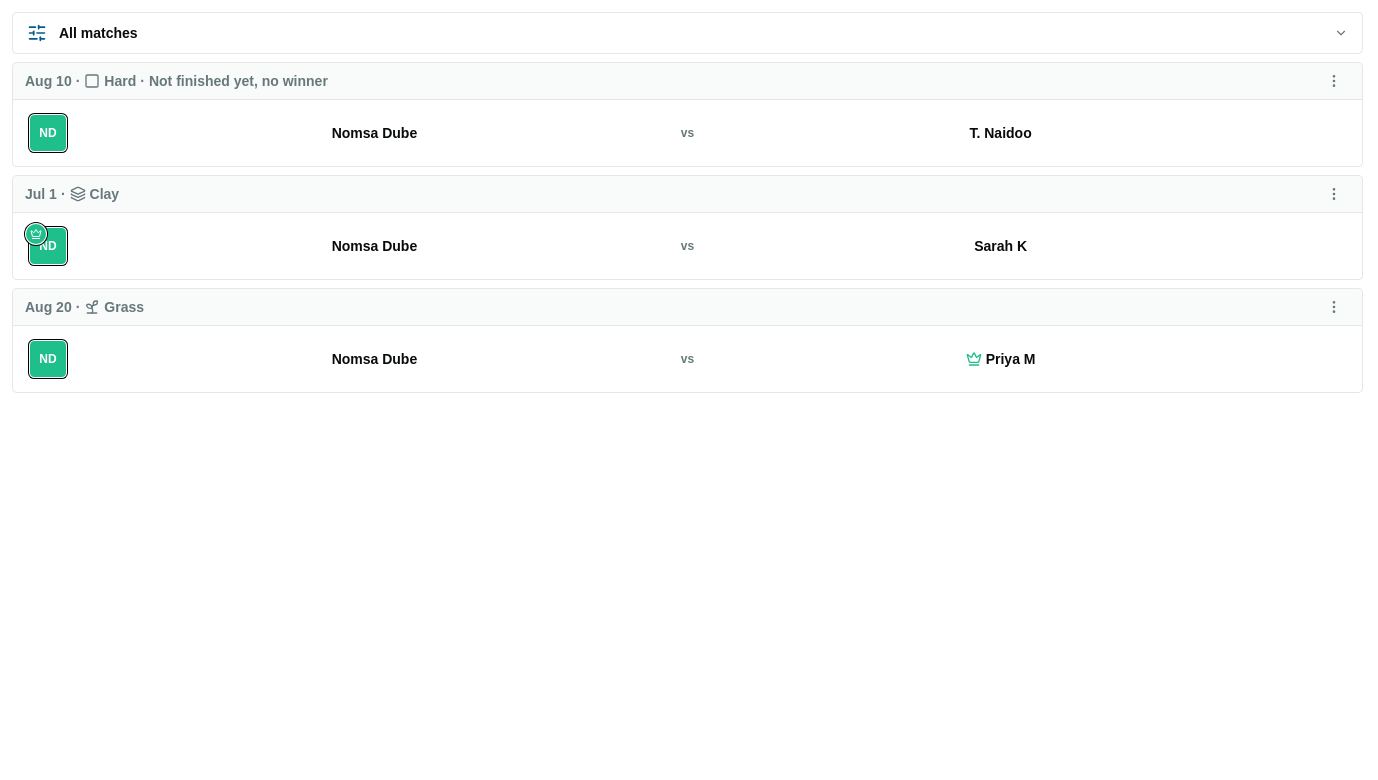
Test: filters by opponent name
Check: the text "T. Naidoo" is shown, box [970,123,1032,143]
Step 1. Click the button "All matches" → (98, 33), box [12,12,1363,54]
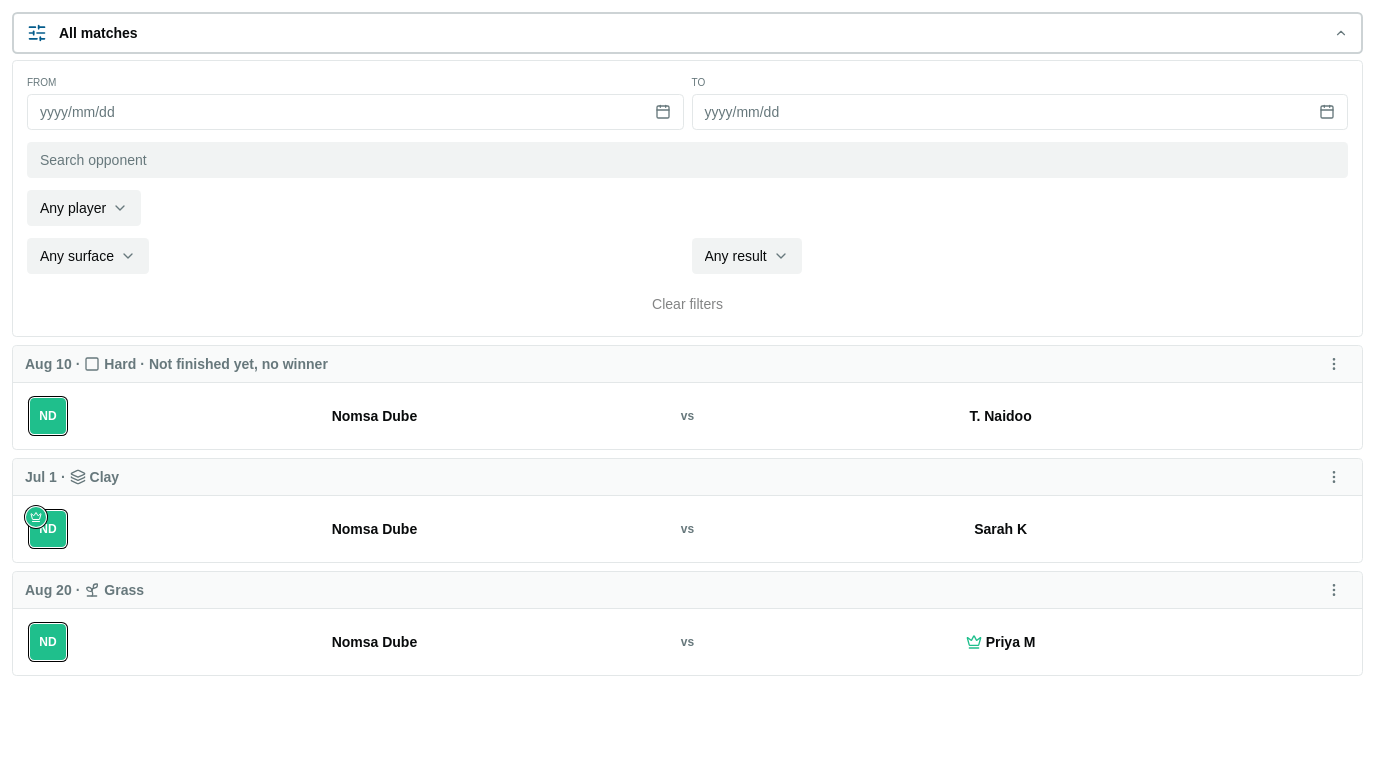
Step 2. Type "Sarah" into the field with placeholder "Search opponent" → (688, 160), box [27,142,1348,178]
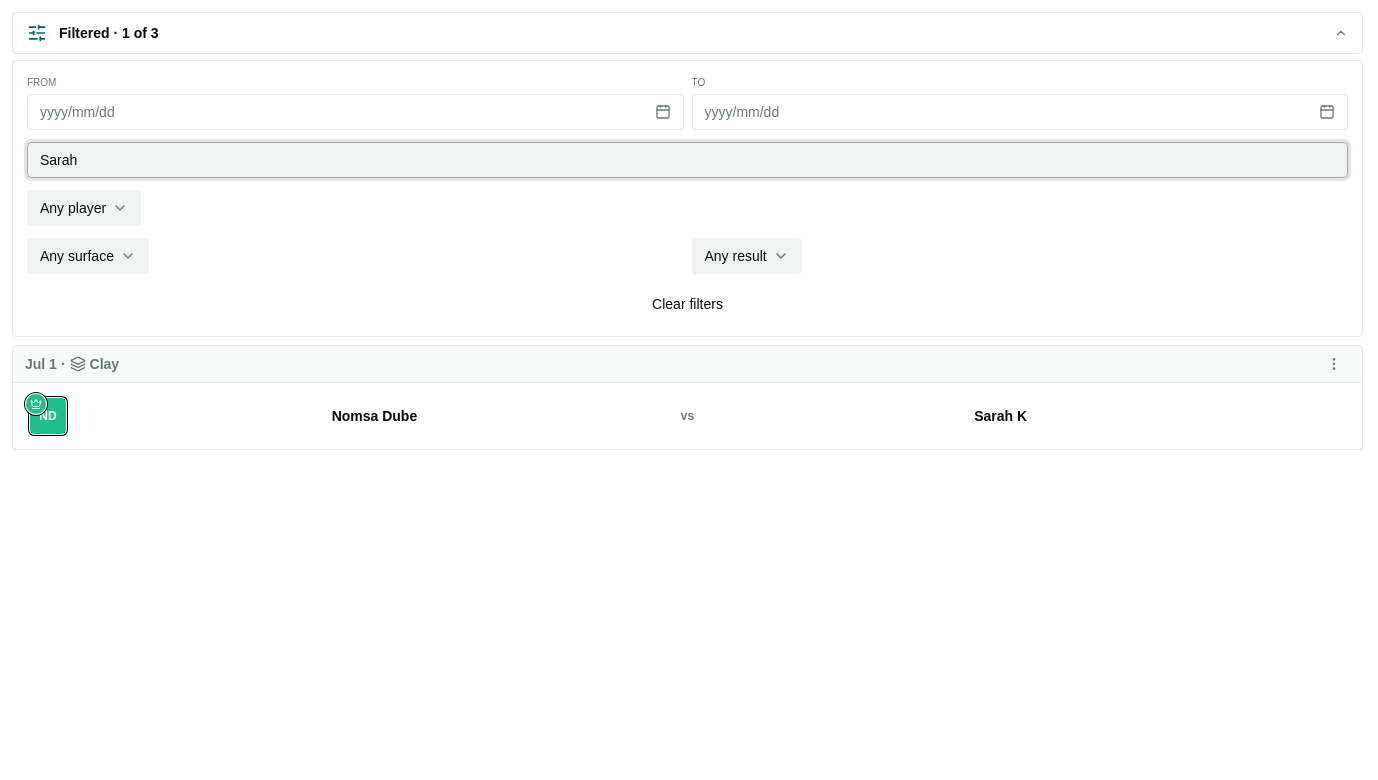
Check: the text "Sarah K" is shown, box [974,406,1027,426]
Check: the link "T. Naidoo" is gone
Check: the link "Priya M" is gone
